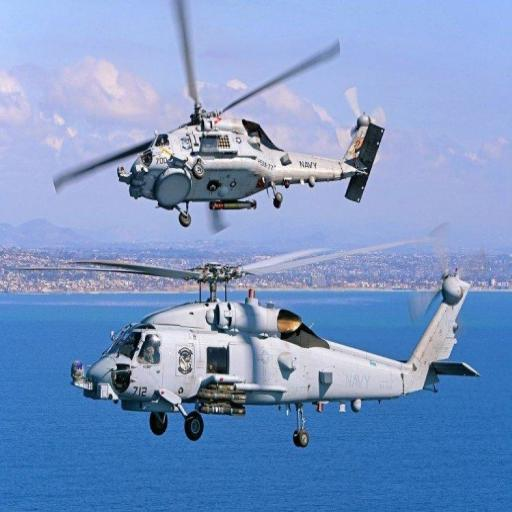helicopter: (63, 171, 485, 412), (65, 5, 361, 236)
